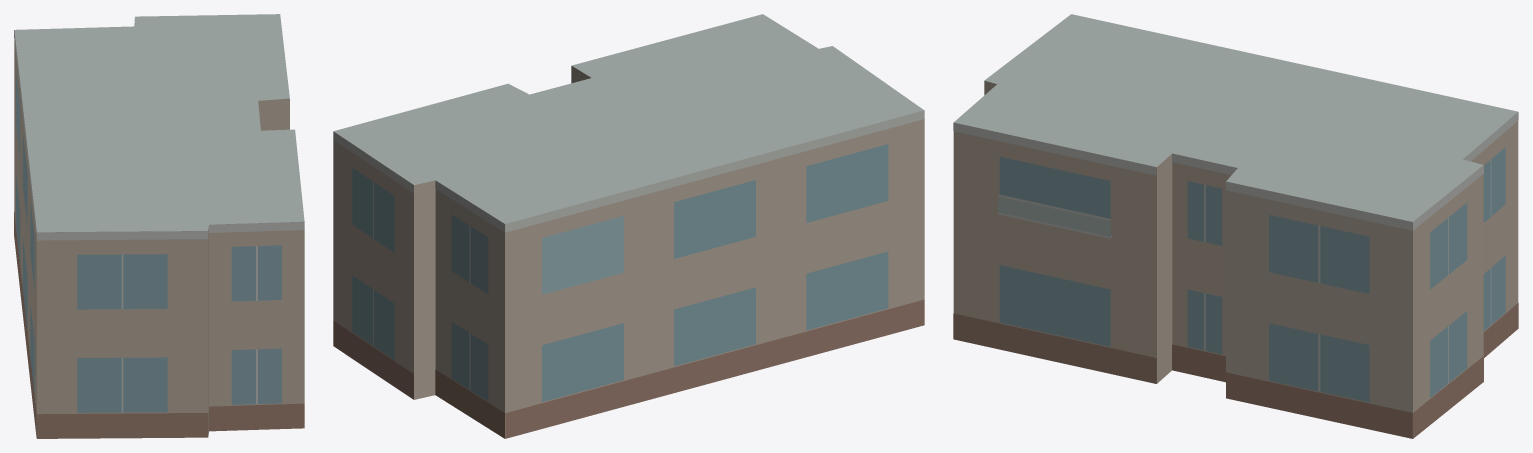
The model's file is survey-upis-32517747.glb.
3 renders of one model, left to right at view 1: azimuth 30°, elevation 25°; view 2: azimuth 150°, elevation 25°; view 3: azimuth 270°, elevation 25°, orthographic. The views are drawn at different scales.
Visible parts, largest first — view 1: survey-upis-32517747.tmp; view 2: survey-upis-32517747.tmp; view 3: survey-upis-32517747.tmp.
Part boxes in pixels (x1,y1,x2,y2): survey-upis-32517747.tmp: (14, 14, 304, 438); survey-upis-32517747.tmp: (333, 14, 924, 438); survey-upis-32517747.tmp: (953, 14, 1518, 438).
Bounding box in the file's own units: 12.56 × 6.1 × 14.41.
